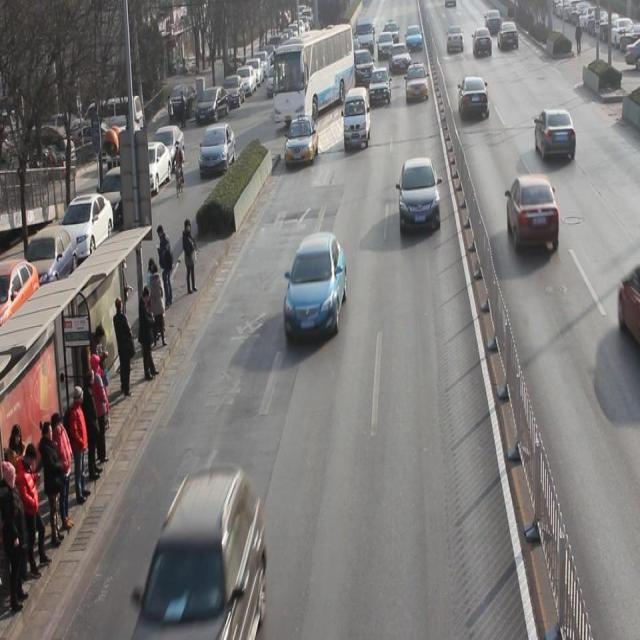car: (136, 468, 268, 640), (285, 231, 347, 343), (507, 175, 560, 252), (399, 158, 442, 232), (535, 108, 577, 161), (284, 116, 320, 168), (459, 75, 490, 121), (405, 62, 429, 104), (369, 67, 392, 107), (353, 47, 375, 88), (389, 44, 412, 76), (498, 20, 519, 52), (472, 26, 492, 58), (446, 25, 465, 54)
truck: (344, 86, 371, 152)
van: (274, 27, 357, 127)
